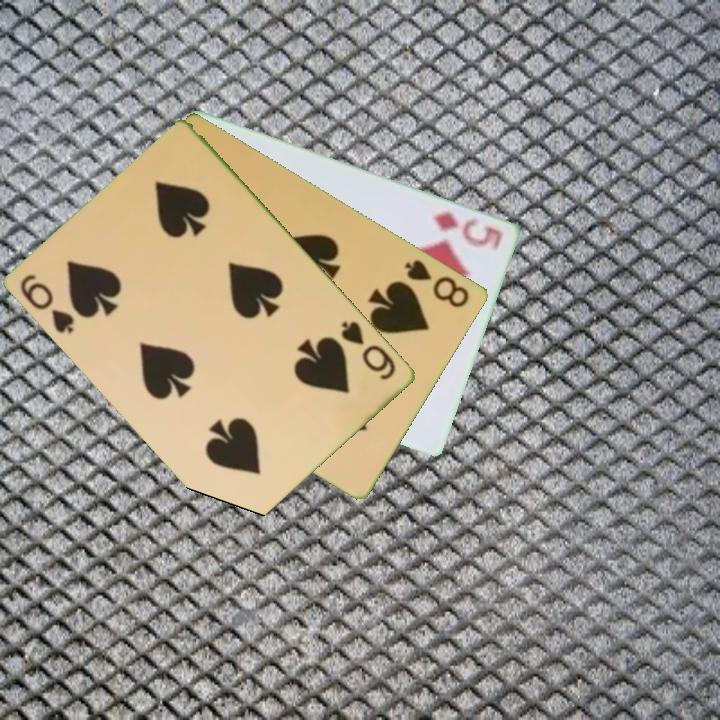5d: (429, 207, 506, 254)
6s: (338, 317, 400, 383), (17, 270, 78, 337)
8s: (401, 256, 473, 311)
